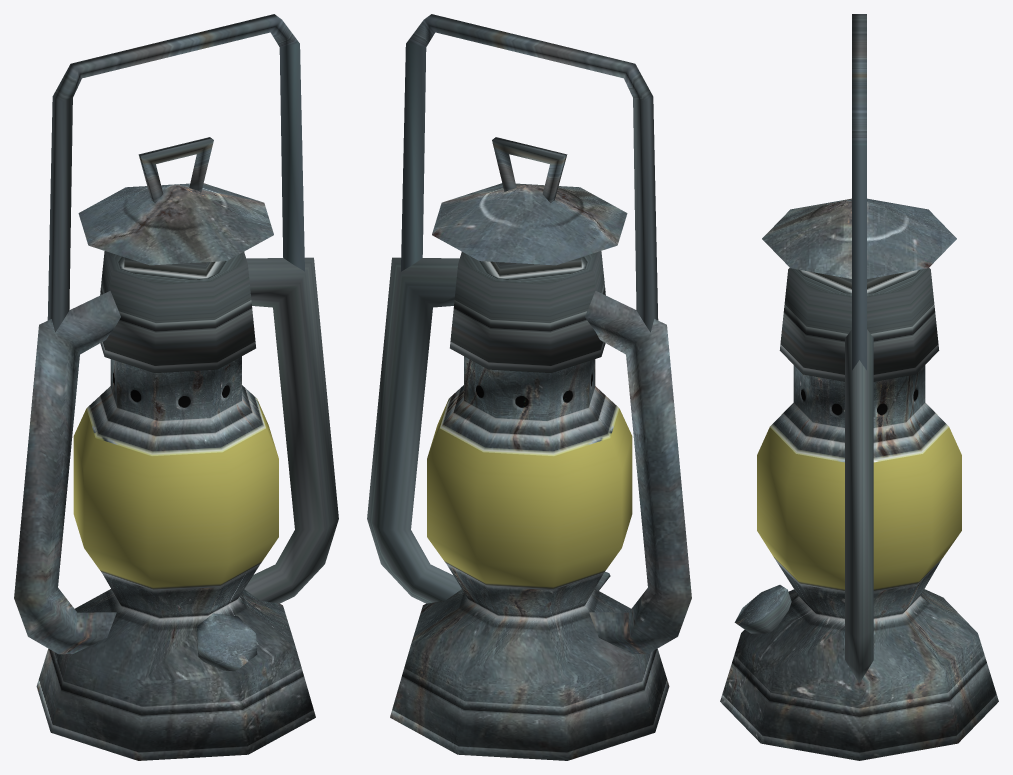
File: lantern.fbx
The picture shows the model from 3 angles, left to right: view 1: azimuth 30°, elevation 25°; view 2: azimuth 150°, elevation 25°; view 3: azimuth 270°, elevation 25°; orthographic projection. The views are drawn at different scales.
Visible parts, largest first — view 1: lantern; view 2: lantern; view 3: lantern.
Part boxes in pixels (x1,y1,x2,y2): lantern: (14,14,338,760); lantern: (367,14,691,760); lantern: (720,14,998,760).
Bounding box in the file's own units: 27.66 × 53.72 × 21.24.
